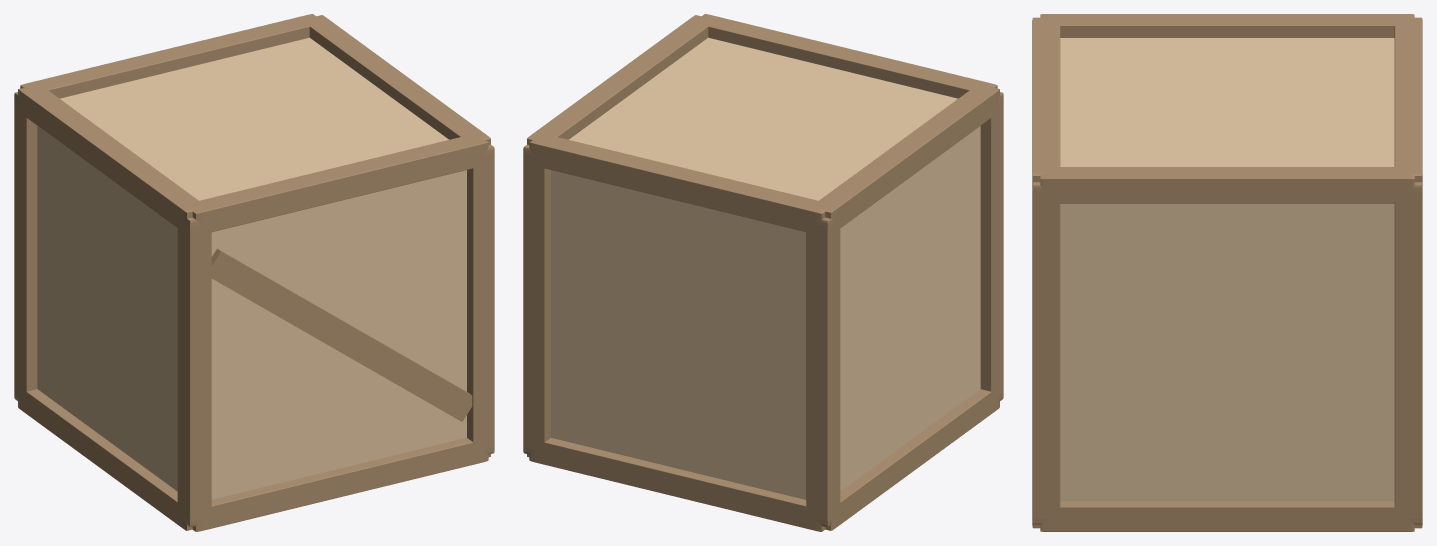
The model's file is wooden-crate.glb.
3 renders of one model, left to right at view 1: azimuth 30°, elevation 25°; view 2: azimuth 150°, elevation 25°; view 3: azimuth 270°, elevation 25°, orthographic. The views are drawn at different scales.
Visible parts, largest first — view 1: Front, Left, Top, Post, RailX.002, Brace, Post.002, RailX, RailY.002, Post.001, RailX.003, RailY (+1 smaller); view 2: Back, Left, Top, Post.001, RailX.003, Post.003, RailX.001, RailY.002, Post, RailX.002, RailY, RailY.003; view 3: Right, Top, RailY.003, RailY.001, Post.003, Post.002, RailY.002, RailX.003, RailX.002.
Part boxes in pixels (x1=…): Front: x1=211, y1=170, x2=466, y2=499; Left: x1=37, y1=126, x2=177, y2=491; Top: x1=60, y1=37, x2=448, y2=200; Post: x1=177, y1=217, x2=211, y2=527; RailX.002: x1=190, y1=134, x2=488, y2=232; Brace: x1=211, y1=248, x2=472, y2=421; Post.002: x1=467, y1=144, x2=494, y2=454; RailX: x1=192, y1=438, x2=488, y2=531; RailY.002: x1=18, y1=87, x2=198, y2=231; Post.001: x1=14, y1=92, x2=37, y2=401; RailX.003: x1=20, y1=14, x2=318, y2=98; RailY: x1=18, y1=389, x2=192, y2=530; Back: x1=551, y1=170, x2=806, y2=499; Left: x1=840, y1=126, x2=980, y2=491; Top: x1=569, y1=37, x2=957, y2=200; Post.001: x1=806, y1=217, x2=840, y2=527; RailX.003: x1=529, y1=134, x2=827, y2=233; Post.003: x1=523, y1=144, x2=550, y2=454; RailX.001: x1=529, y1=438, x2=825, y2=531; RailY.002: x1=818, y1=87, x2=999, y2=231; Post: x1=980, y1=92, x2=1003, y2=400; RailX.002: x1=699, y1=14, x2=997, y2=98; RailY: x1=825, y1=388, x2=999, y2=530; RailY.003: x1=527, y1=15, x2=711, y2=144; Right: x1=1060, y1=203, x2=1394, y2=501; Top: x1=1060, y1=38, x2=1394, y2=166; RailY.003: x1=1040, y1=167, x2=1414, y2=203; RailY.001: x1=1040, y1=501, x2=1414, y2=531; Post.003: x1=1394, y1=182, x2=1422, y2=524; Post.002: x1=1032, y1=182, x2=1060, y2=524; RailY.002: x1=1040, y1=14, x2=1414, y2=37; RailX.003: x1=1394, y1=17, x2=1422, y2=184; RailX.002: x1=1032, y1=17, x2=1060, y2=184.
Size of what is drawn, in the model's own units: 2.25 by 2.25 by 2.25.
